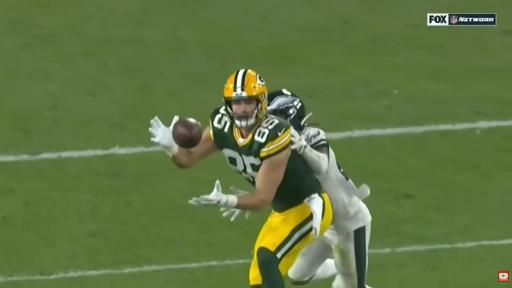Helmet: (223, 69, 267, 128), (268, 90, 311, 131)
Jersey: (301, 127, 371, 232), (210, 107, 291, 186)
Player: (150, 70, 332, 287), (269, 90, 371, 287)
